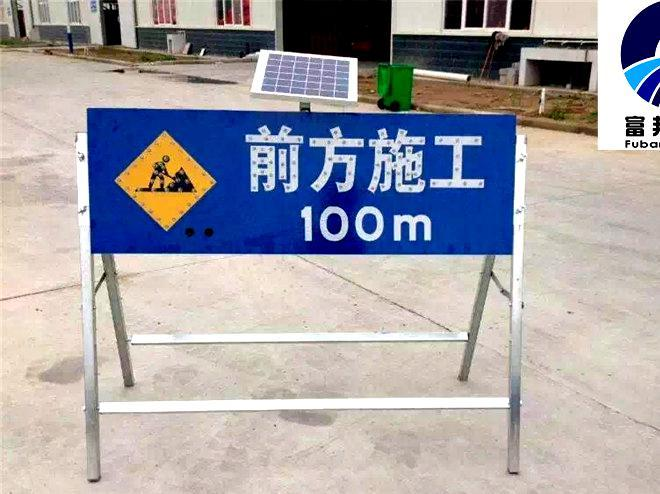sign: (84, 107, 519, 259)
